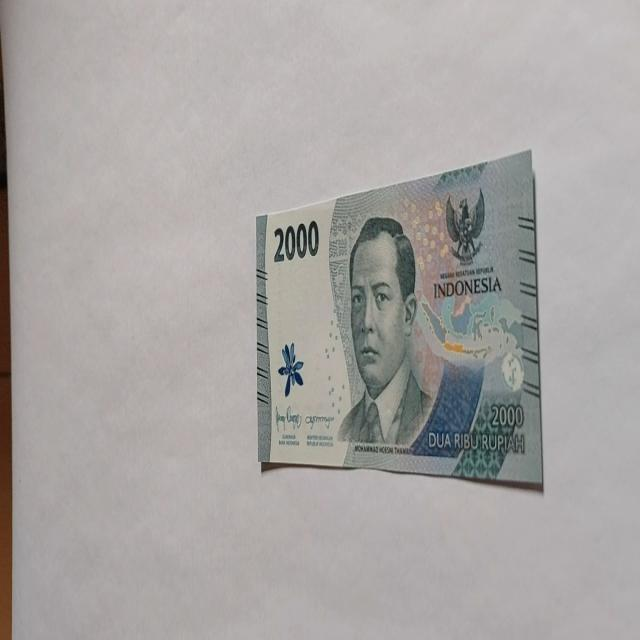dua ribu rupiah: (255, 148, 543, 488), (336, 215, 434, 450)
